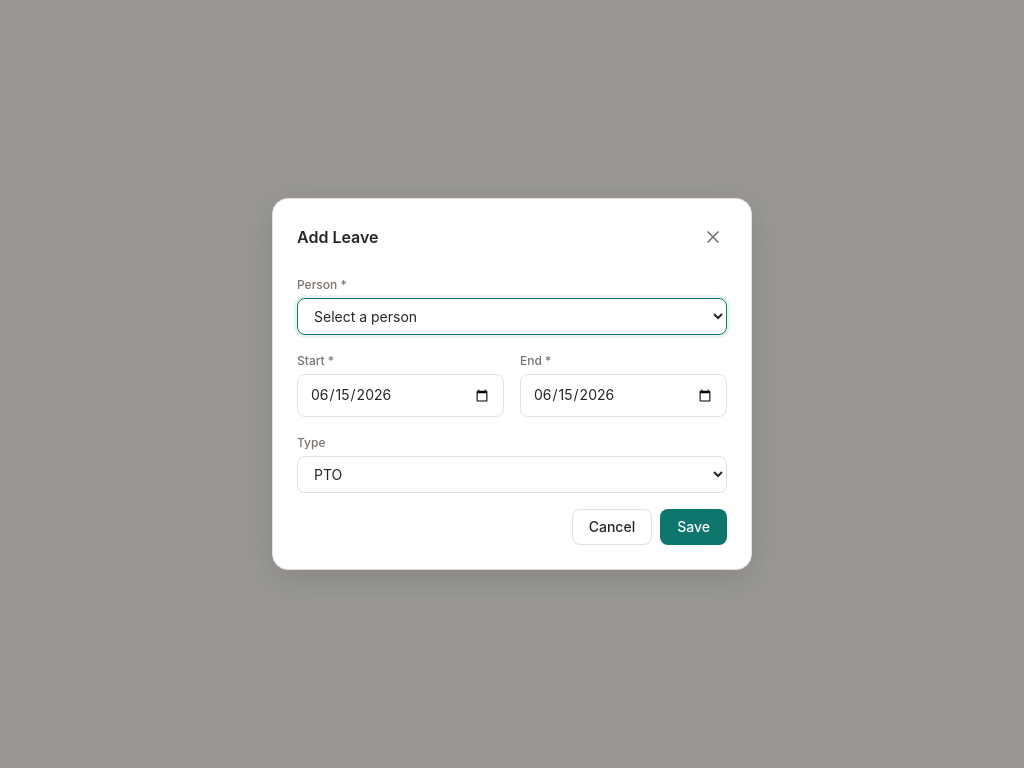
Test: LeaveForm › moves the end along with the start and rejects an end before the start
The image size is (1024, 768).
Select "Alex Chen" in the dropdown labelled "Person *": (512, 317) [297, 298, 727, 335]
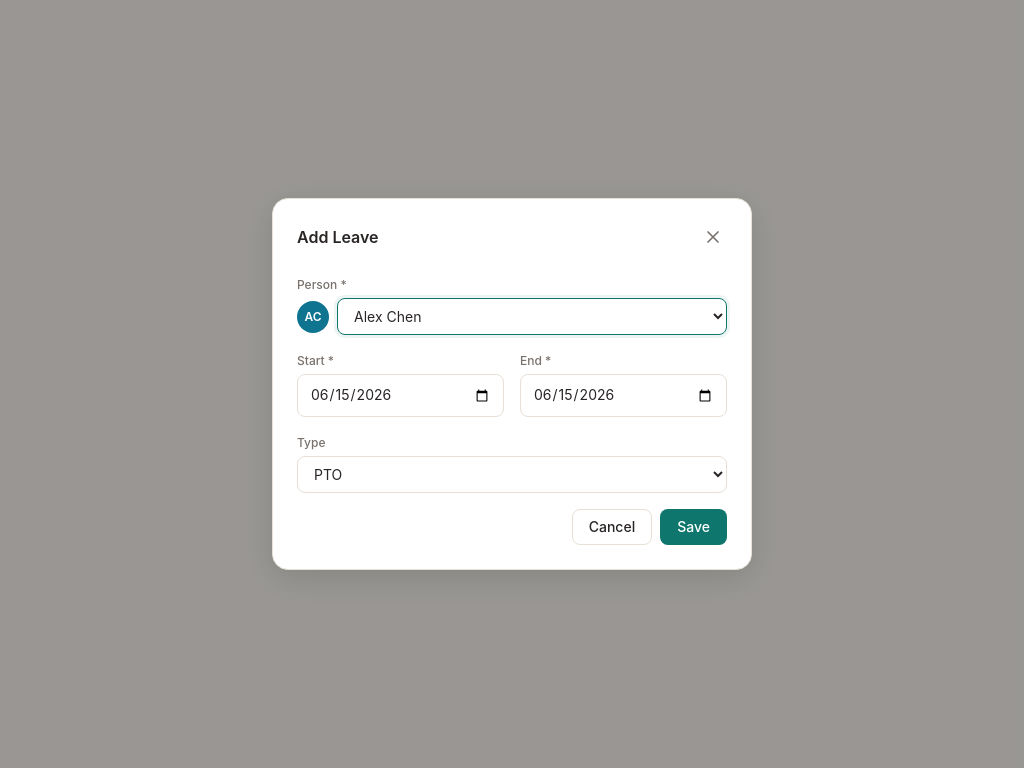
In the date field labelled "Start *": (400, 396) [297, 374, 504, 417], type "2026-06-20"
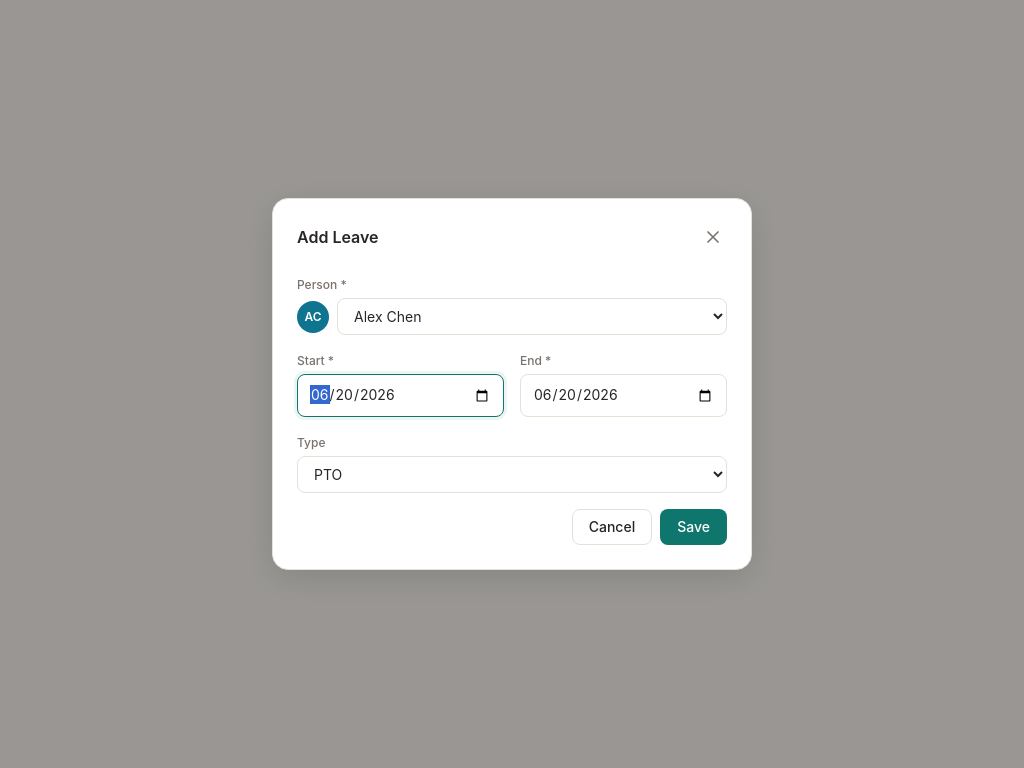
Expected: the date field labelled "End *" holds "2026-06-20"
In the date field labelled "End *": (624, 396) [520, 374, 727, 417], type "2026-06-19"
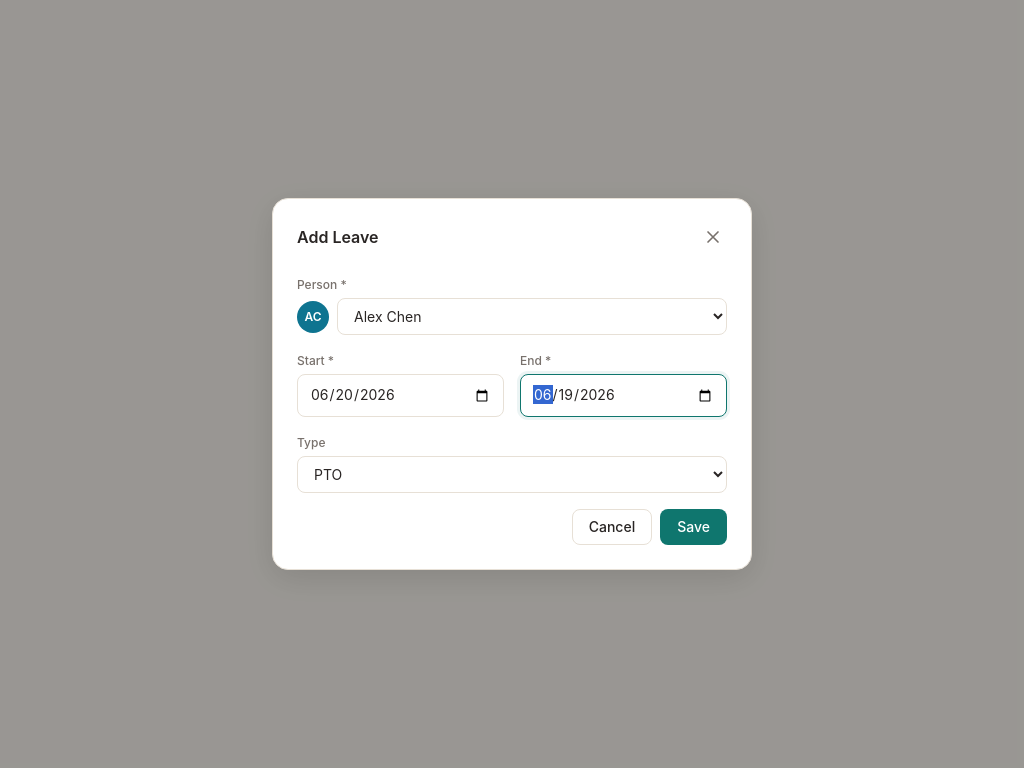
Click the button "Save": (694, 527) [660, 509, 727, 545]
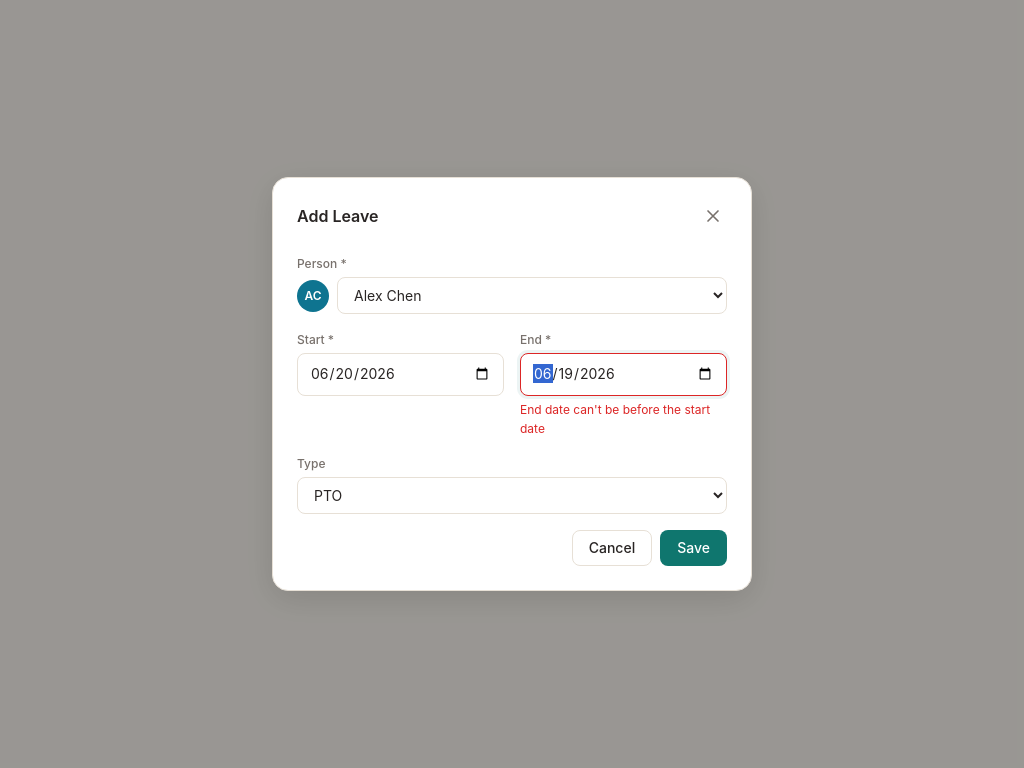
Expected: the text "End date can't be before the start date" is shown, [520, 400, 727, 438]
